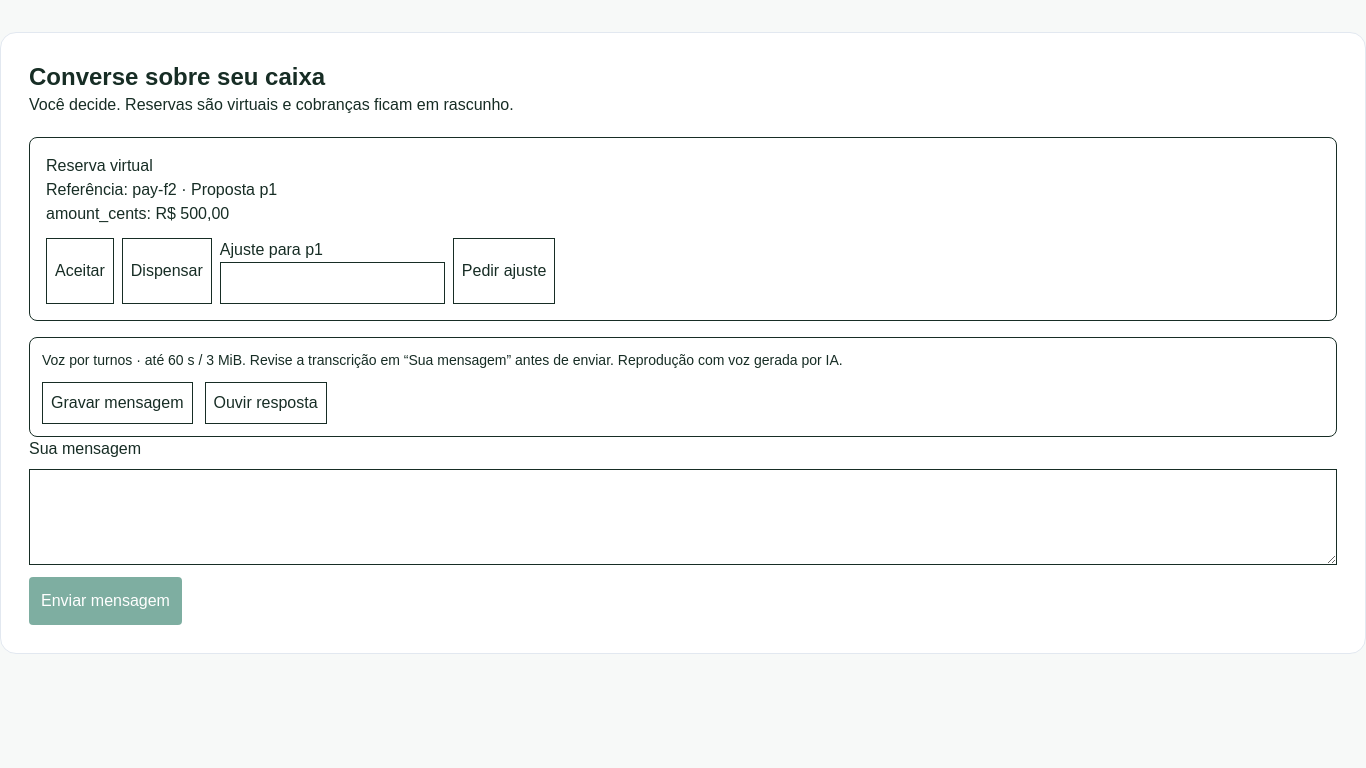
Test: T18 aceite usa proposta e versão recebidos, sem sucesso local
Click the button "Aceitar" at {"x": 80, "y": 271}, box [46, 238, 114, 304]
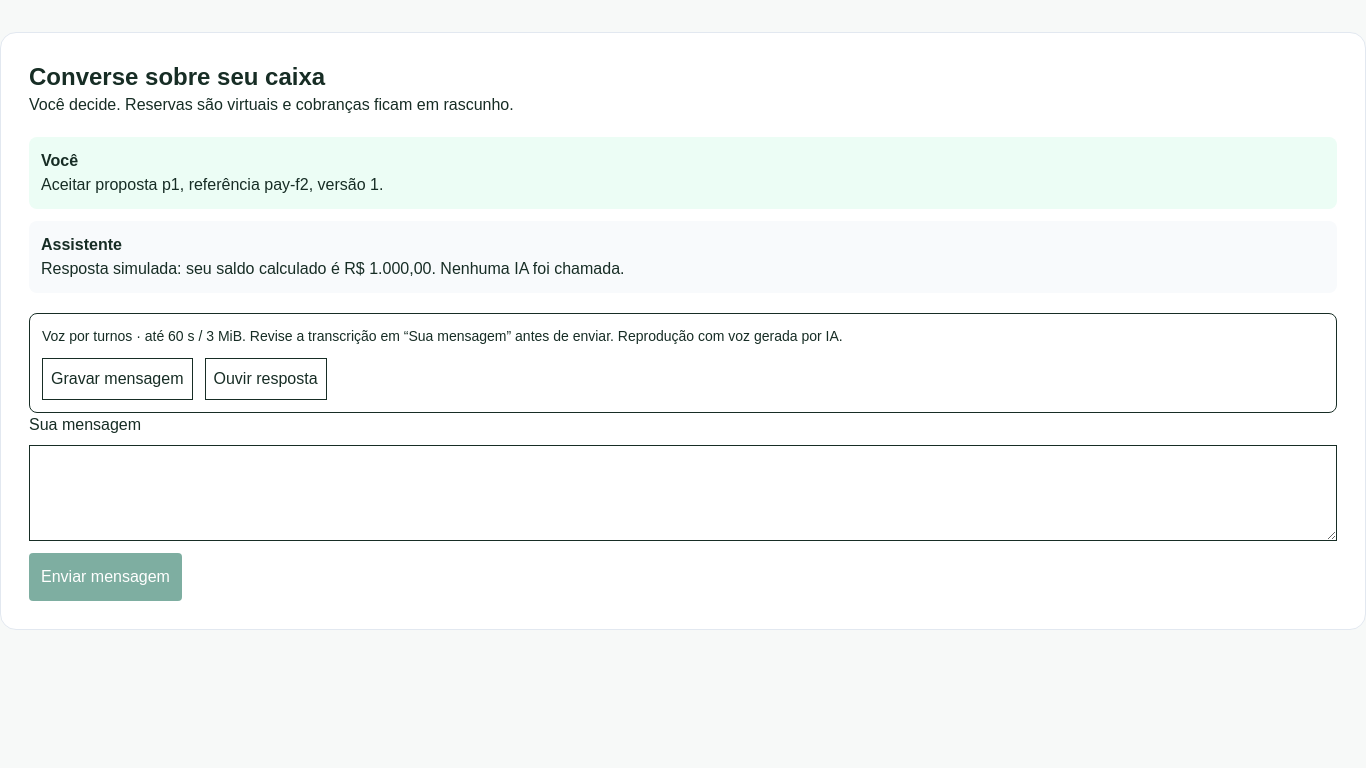
Expected: the text "Resposta simulada: seu saldo calculado é R$ 1.000,00. Nenhuma IA foi chamada." is shown, [41, 260, 624, 277]
